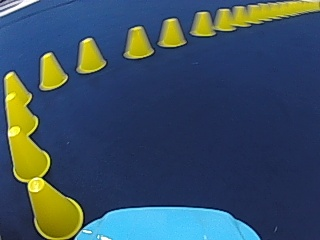cone: (2, 71, 51, 174), (27, 177, 81, 237), (1, 70, 40, 135), (7, 122, 51, 179), (38, 50, 68, 89), (75, 36, 106, 73), (123, 25, 154, 59), (157, 17, 186, 48), (189, 11, 214, 36), (213, 7, 234, 31), (231, 5, 248, 27), (247, 4, 260, 23), (28, 177, 44, 192)
